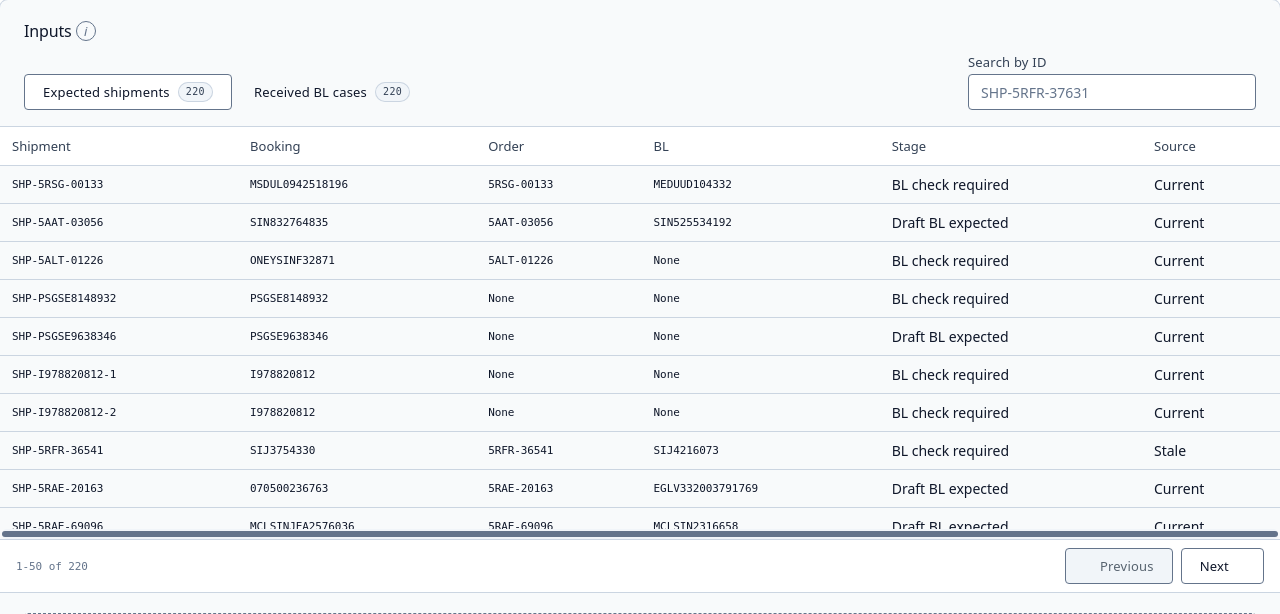
ReconciliationInputs › searches the shown input by any number it names
In the search field labelled "Search by ID": [1098, 92] box [981,75,1215,109], type "SIJ1051834"
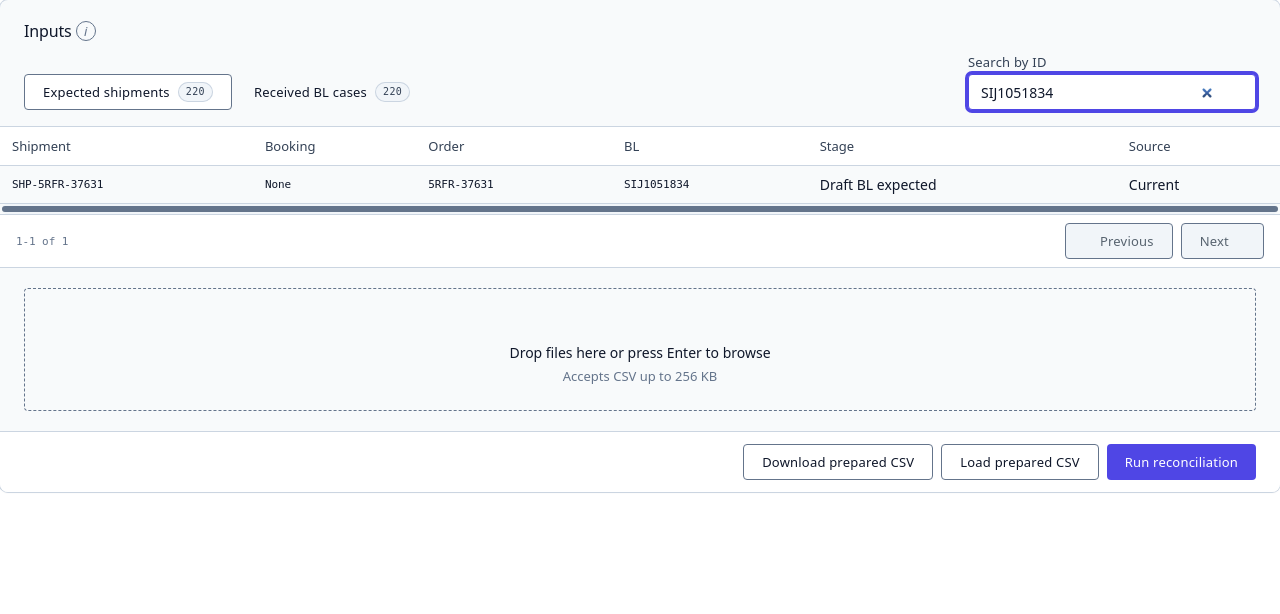
Check: the cell "None" is shown, box [253,166,416,204]
Replace the text in the search field labelled "Search by ID" with "nothing-like-this": [1098, 92] box [981,75,1215,109]
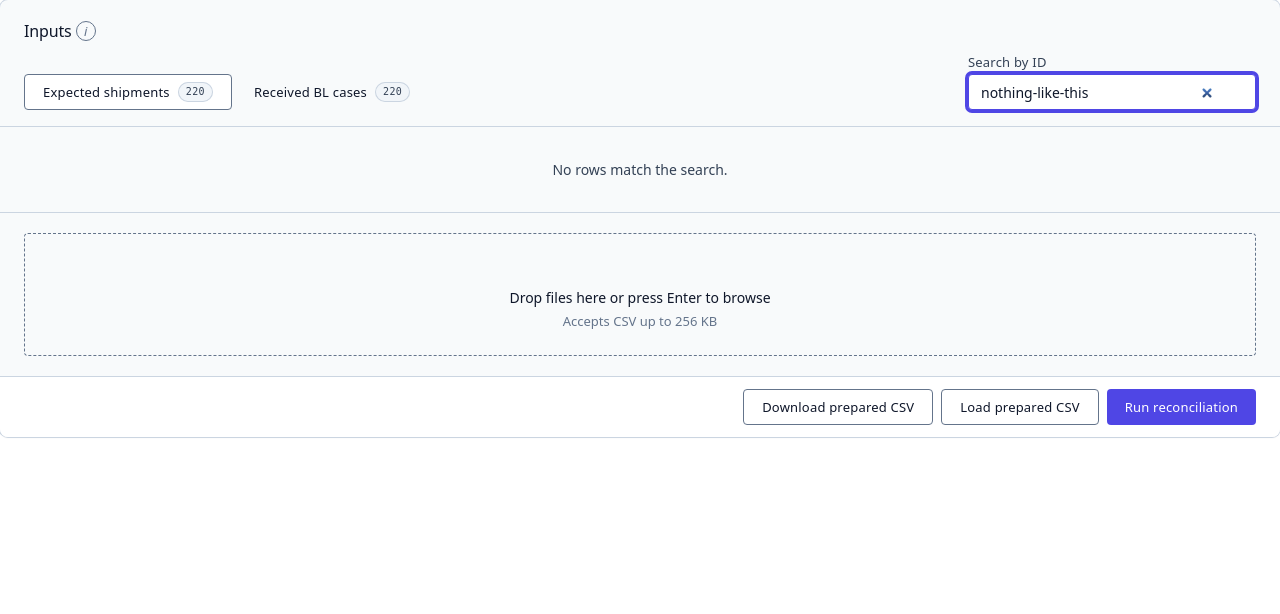
Check: the text "No rows match the search." is shown, box [0,126,1279,212]
